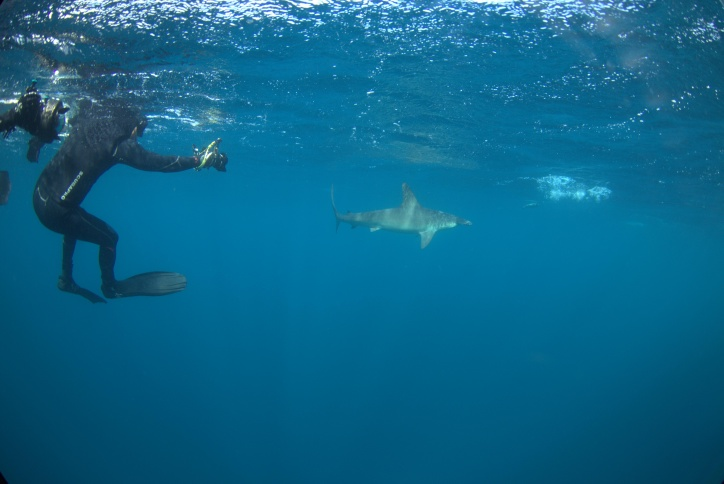Hammer: (296, 171, 501, 261)
